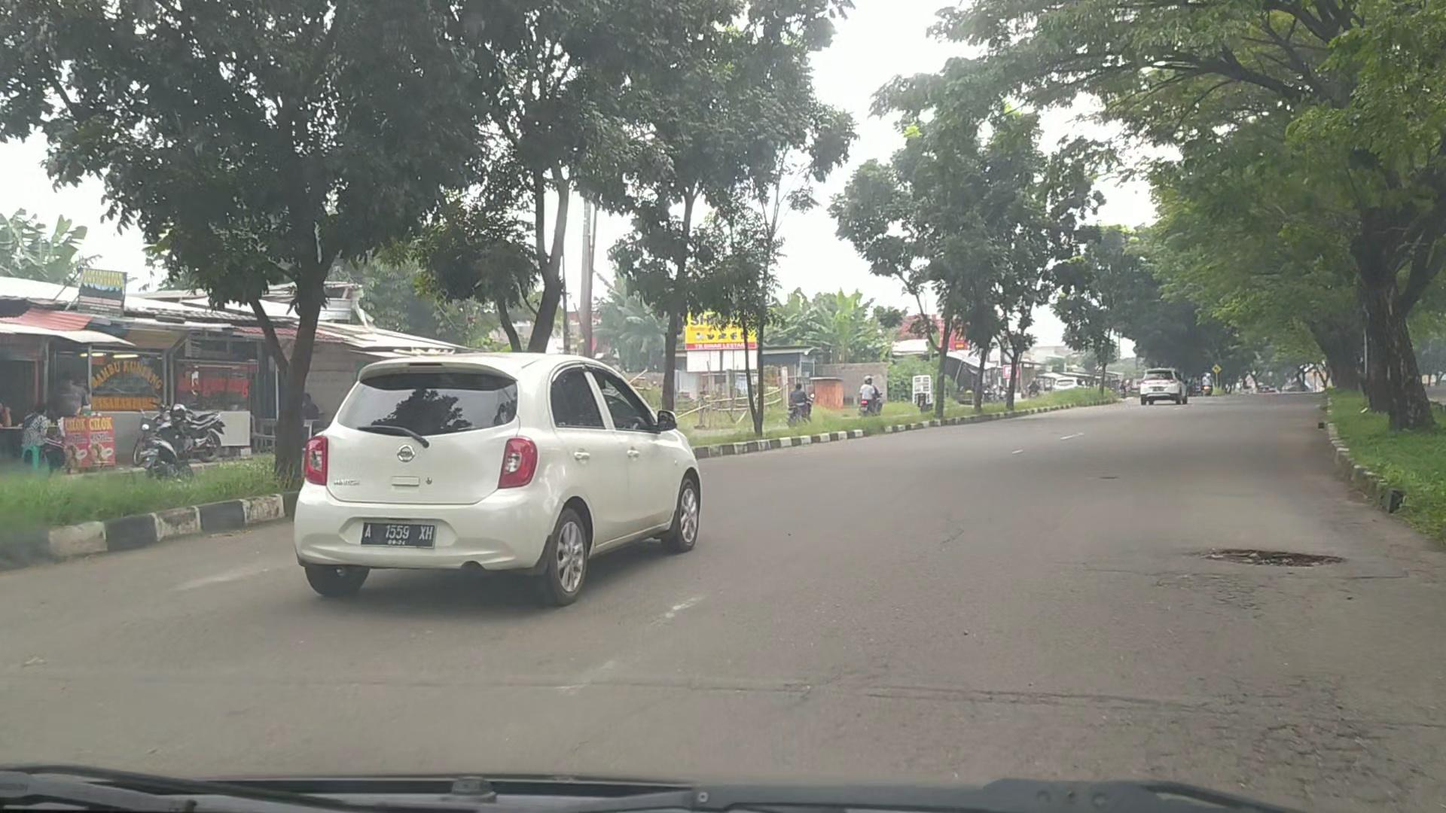pothole: (1195, 546, 1354, 571)
